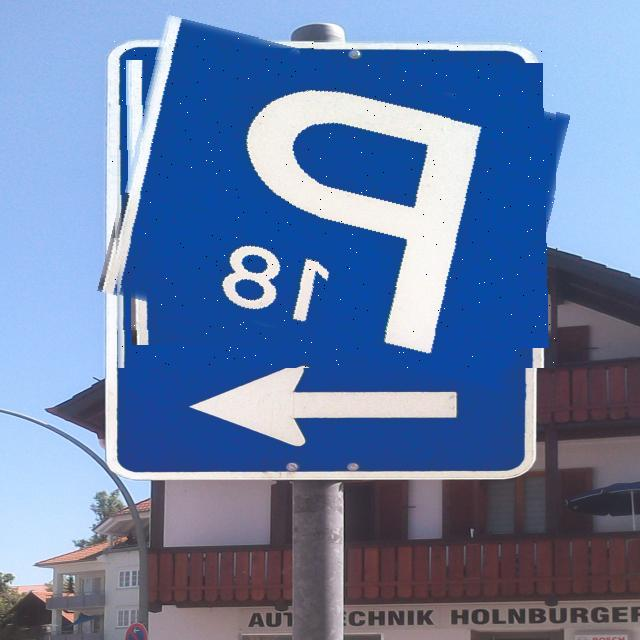parking: (111, 37, 556, 368)
